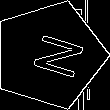N_W: (17, 28, 81, 82)
